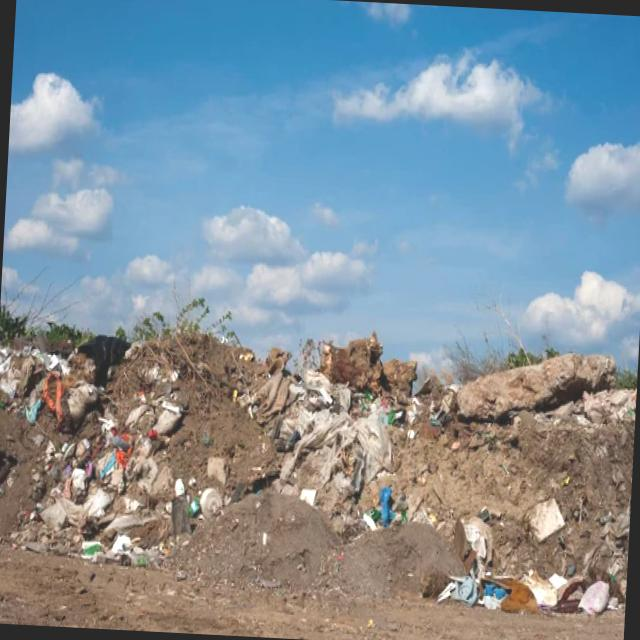garbage: (0, 282, 630, 597)
